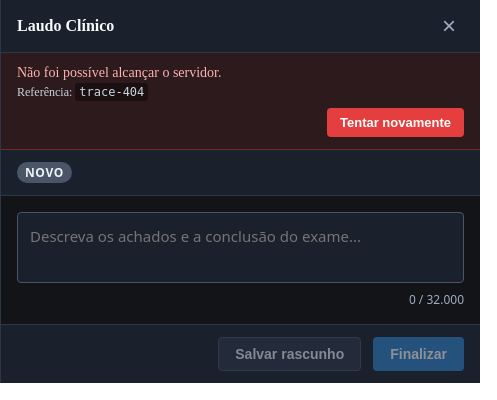
Test: ReportPanel › Phase Transitions and Error Handling › renders localized error message and retry button on retryable error
The width and height of the screenshot is (497, 400).
Check: the message "Não foi possível alcançar o servidor. Referência: trace-404 Tentar novamente" is shown, box left=1, top=53, right=480, bottom=150
Check: the message with test id "report-error" shows "Não foi possível alcançar o servidor.", box left=17, top=65, right=222, bottom=80
Click the button with test id "report-retry-button". click: (396, 122)
box: left=327, top=108, right=464, bottom=137
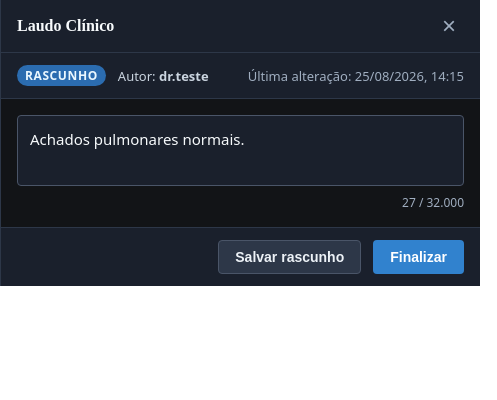
Check: the text box named "Conteúdo do laudo" holds "Achados pulmonares normais.", box left=17, top=115, right=464, bottom=186
